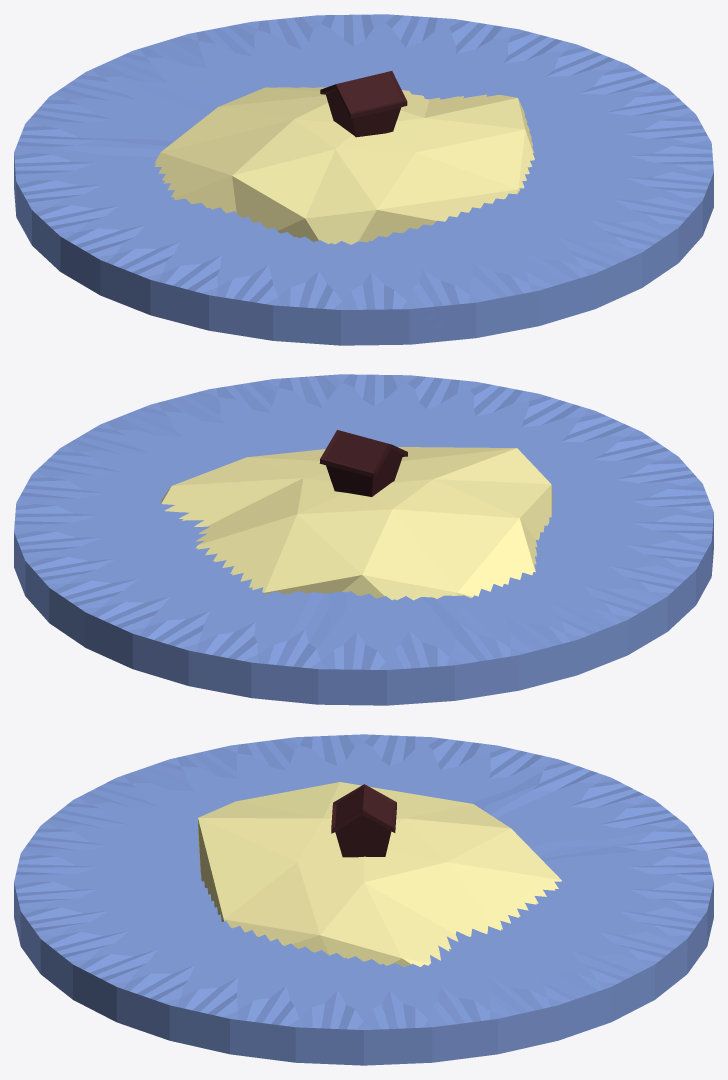
3 renders of one model, top to bottom at view 1: azimuth 30°, elevation 25°; view 2: azimuth 150°, elevation 25°; view 3: azimuth 270°, elevation 25°, orthographic.
Visible parts, largest first — view 1: Cylinder, Icosphere, Cube; view 2: Cylinder, Icosphere, Cube; view 3: Cylinder, Icosphere, Cube.
Boxes of the visible parts, x1,y1,x2,y2 form: Cylinder: (14, 14, 713, 345); Icosphere: (154, 87, 534, 244); Cube: (320, 71, 407, 137); Cylinder: (14, 374, 713, 705); Icosphere: (160, 447, 552, 600); Cube: (319, 430, 407, 496); Cylinder: (14, 734, 713, 1065); Icosphere: (198, 782, 561, 966); Cube: (331, 784, 396, 857).
Size of the model in its own units: 7609 by 1445 by 7609.
